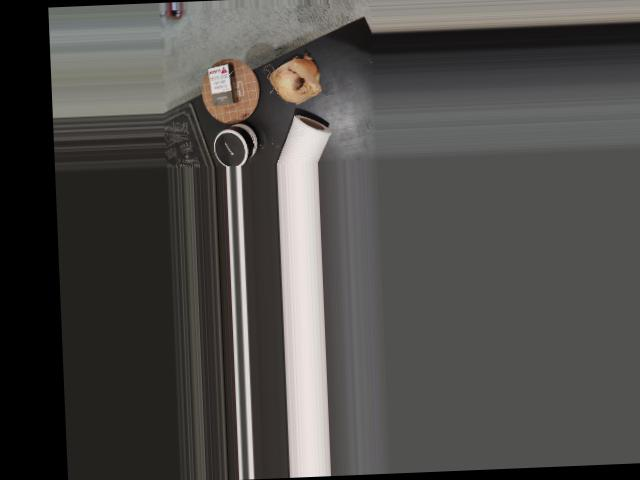onion: (266, 52, 324, 106)
